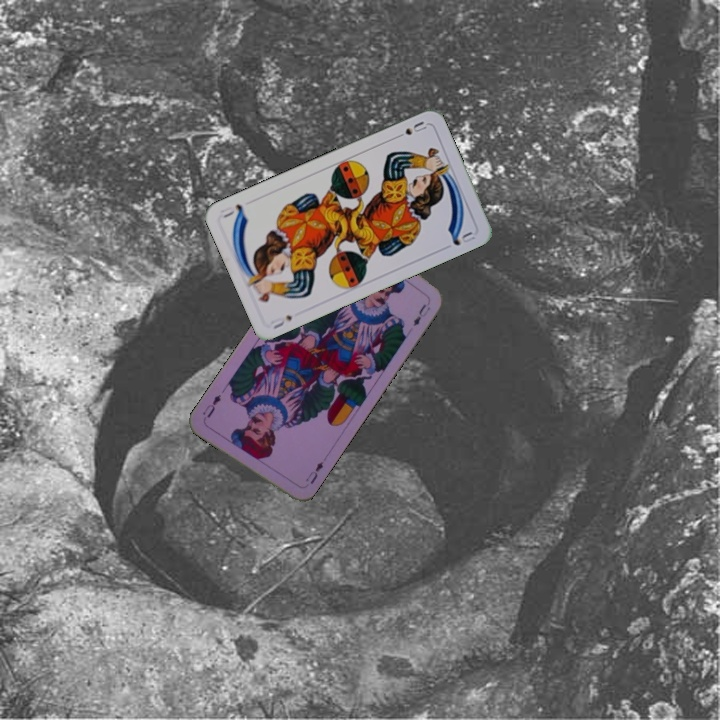EU: (301, 457, 326, 487)
SU: (390, 117, 429, 142), (266, 311, 295, 332)
